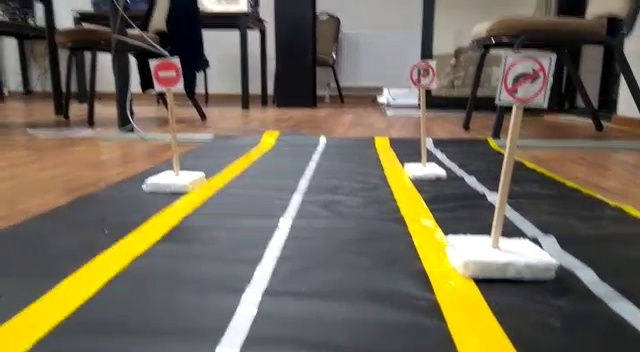girisi_olmayan_yol: (150, 58, 182, 90)
park_yapilmaz: (408, 59, 435, 89)
saga_donulmez: (497, 51, 548, 105)
